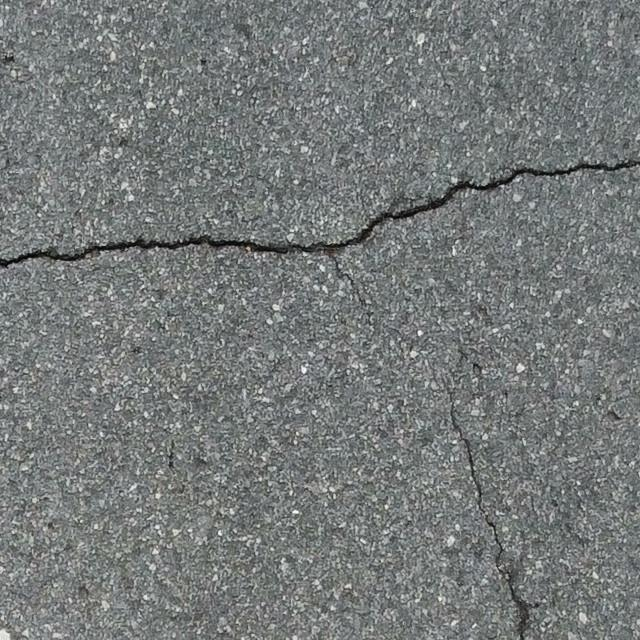LongitudinalCrack: (332, 256, 530, 640)
TransverseCrack: (1, 158, 640, 267)
